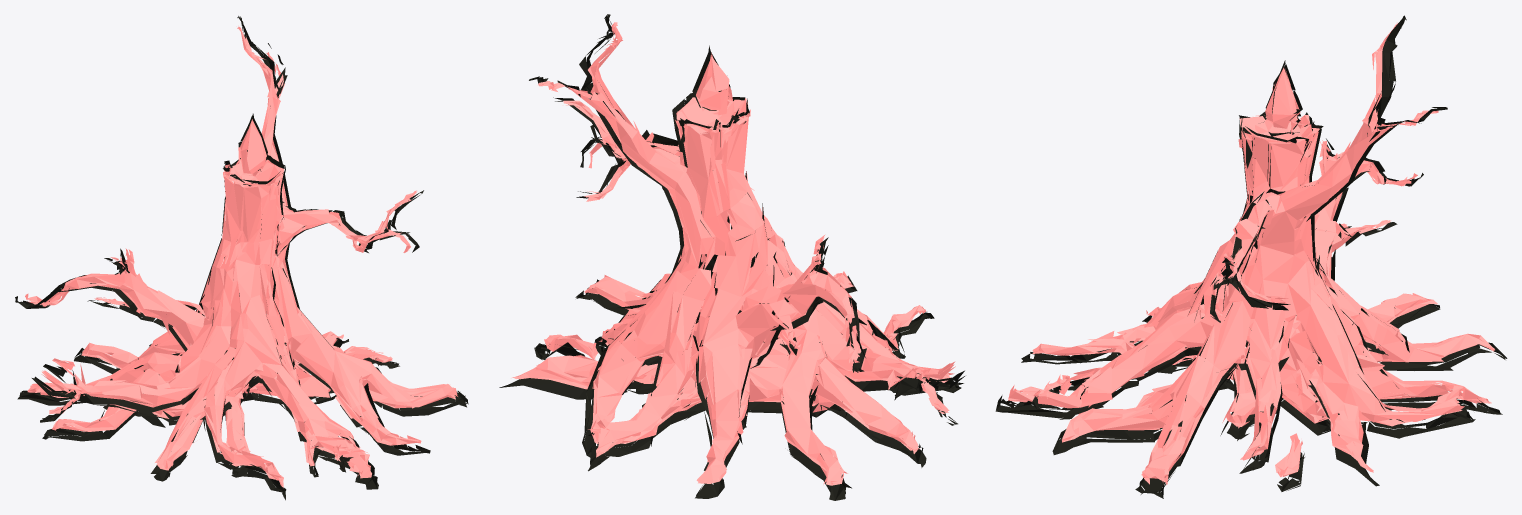
File: df_v2_torch_or_soul_light_c_a.glb
3 views of the same model, side by side, from view 1: azimuth 30°, elevation 25°; view 2: azimuth 150°, elevation 25°; view 3: azimuth 270°, elevation 25° (orthographic). The views are drawn at different scales.
Visible parts, largest first — view 1: torch_or_soul_light_c_mesh_01, torch_or_soul_light_c_mesh_01_ink_outline; view 2: torch_or_soul_light_c_mesh_01, torch_or_soul_light_c_mesh_01_ink_outline; view 3: torch_or_soul_light_c_mesh_01, torch_or_soul_light_c_mesh_01_ink_outline.
Boxes of the visible parts, x1,y1,x2,y2 form: torch_or_soul_light_c_mesh_01: (25,26,457,487); torch_or_soul_light_c_mesh_01_ink_outline: (15,16,468,500); torch_or_soul_light_c_mesh_01: (512,22,955,485); torch_or_soul_light_c_mesh_01_ink_outline: (499,14,964,500); torch_or_soul_light_c_mesh_01: (1008,22,1494,484); torch_or_soul_light_c_mesh_01_ink_outline: (995,15,1507,498).
Bounding box in the file's own units: 0.9479 × 0.8251 × 0.9148.
